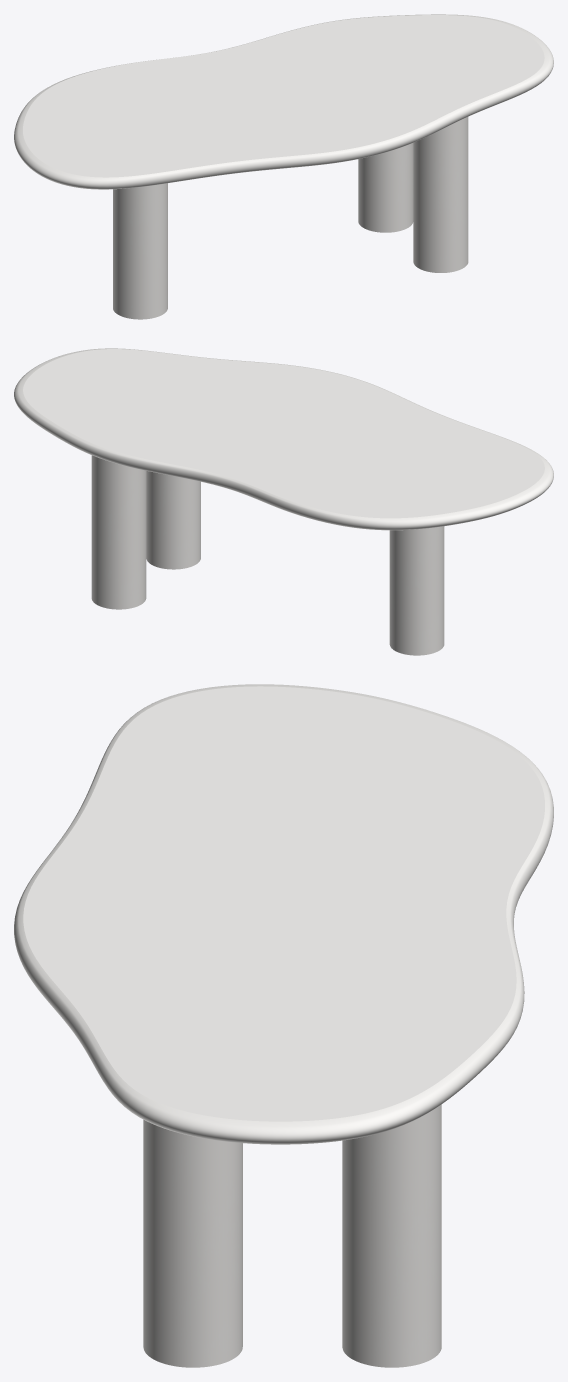
File: purewhite_toplast_round_cylinder.glb
3 views of the same model, one above another, from view 1: azimuth 30°, elevation 25°; view 2: azimuth 150°, elevation 25°; view 3: azimuth 270°, elevation 25° (orthographic). The views are drawn at different scales.
Visible parts, largest first — view 1: round_toplast, cylinder; view 2: round_toplast, cylinder; view 3: round_toplast, cylinder.
Part boxes in pixels (left/top/right/bottom): round_toplast: left=14, top=14, right=553, bottom=189; cylinder: left=113, top=117, right=468, bottom=319; round_toplast: left=14, top=348, right=553, bottom=530; cylinder: left=91, top=455, right=444, bottom=655; round_toplast: left=14, top=684, right=553, bottom=1144; cylinder: left=143, top=1104, right=441, bottom=1367.
Bounding box in the file's own units: 7.5 × 2.52 × 3.8.
1 material, 1 textured.
